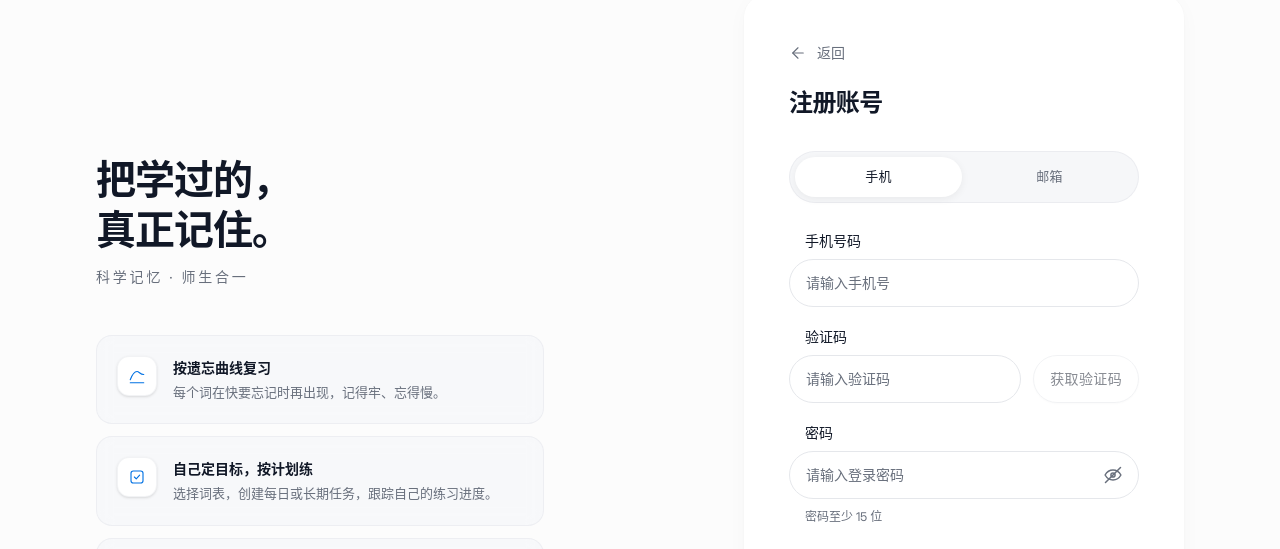
it: RegisterForm — 手机号验证码注册 › 注册错误 invalid code 映射为中文提示
In the field with placeholder "请输入手机号": (964, 283) [789,259,1139,307], type "13800138000"
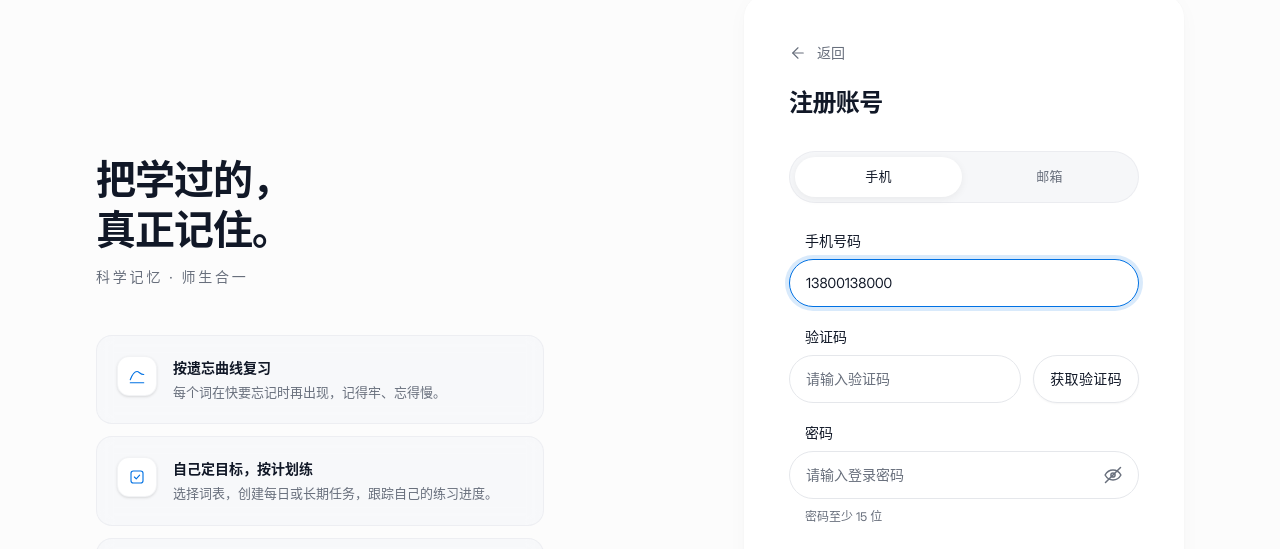
In the field with placeholder "请输入验证码": (905, 379) [789,355,1021,403], type "123456"
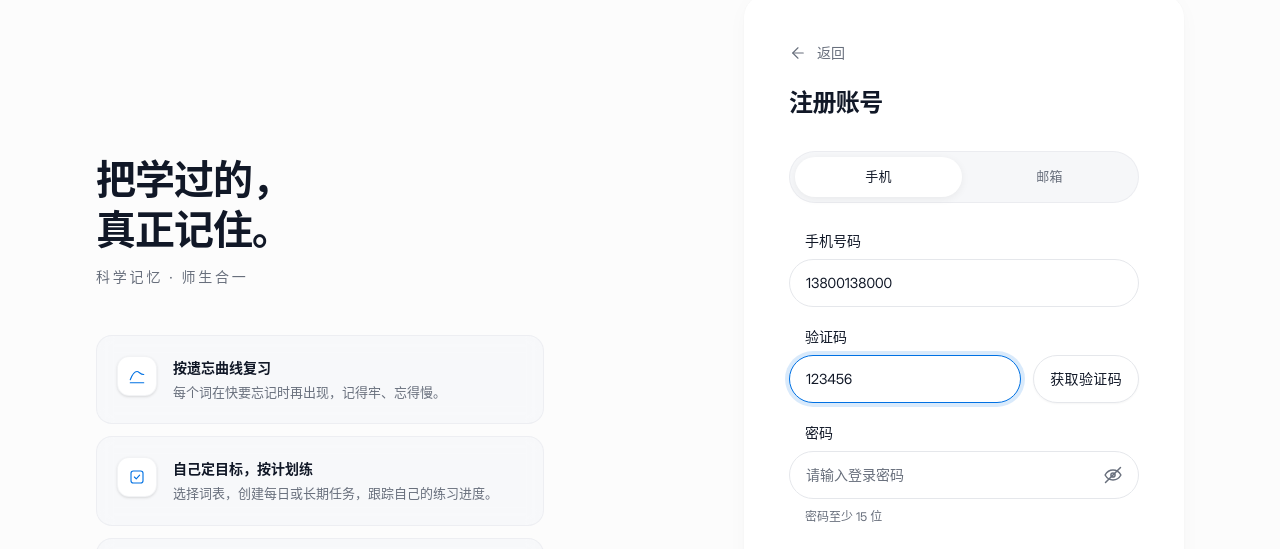
In the password field with placeholder "请输入登录密码": (964, 475) [789,451,1139,499], type " Mixed!密码🙂 river cloud "
(page scrolled)
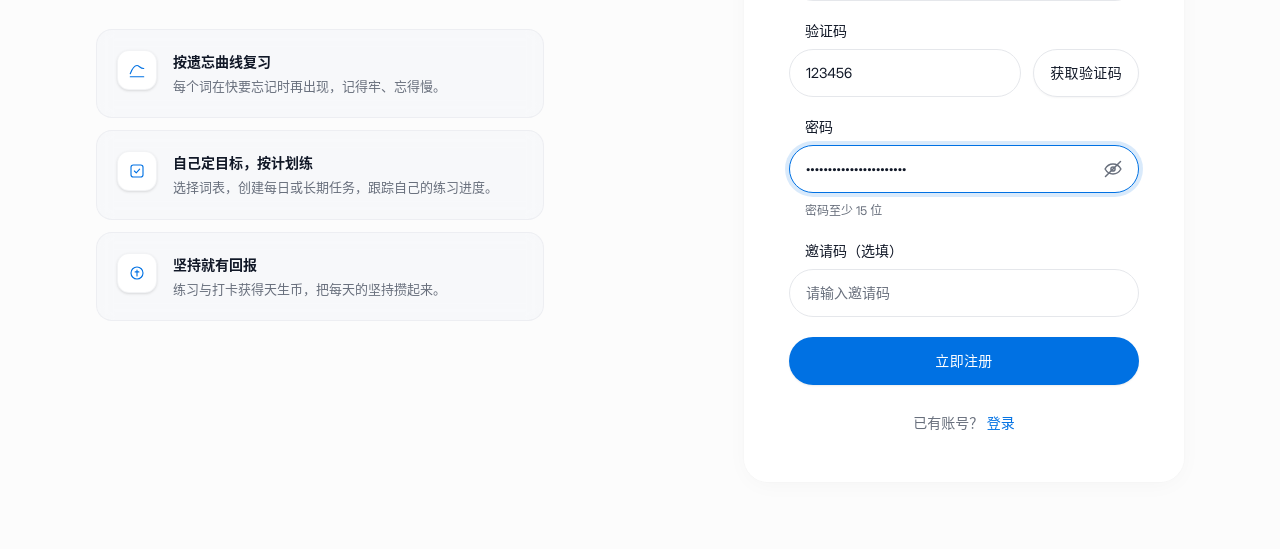
Click the button "立即注册": (964, 361) [789,337,1139,385]
(page scrolled)
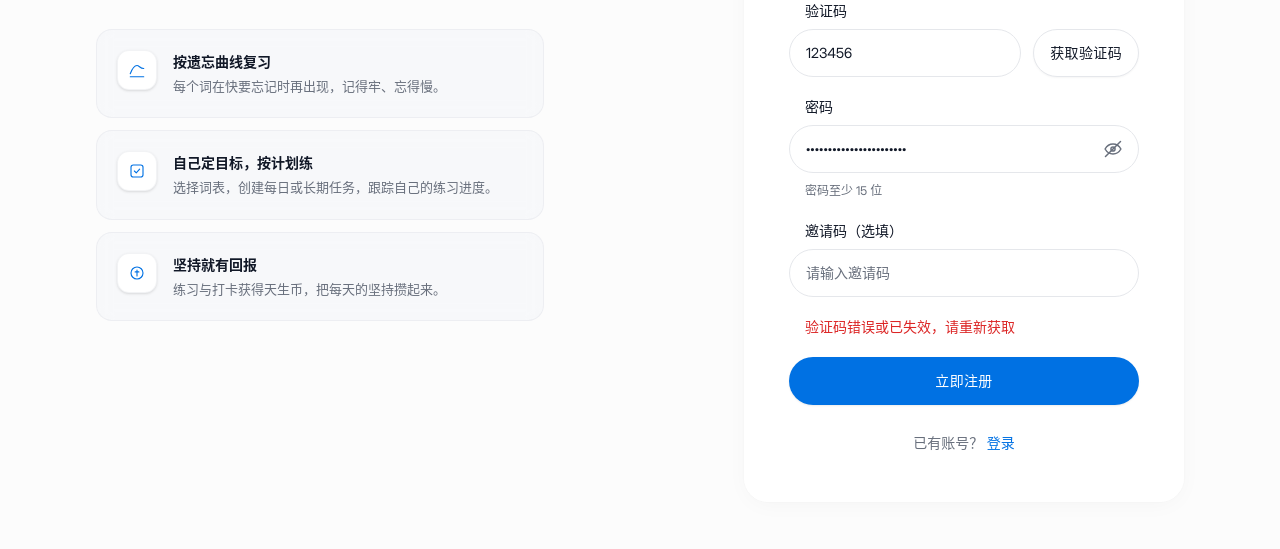
expect the button "立即注册" is enabled: met, box [789,357,1139,405]
expect the text "验证码错误或已失效，请重新获取" is shown: met, box [805,318,1015,336]
